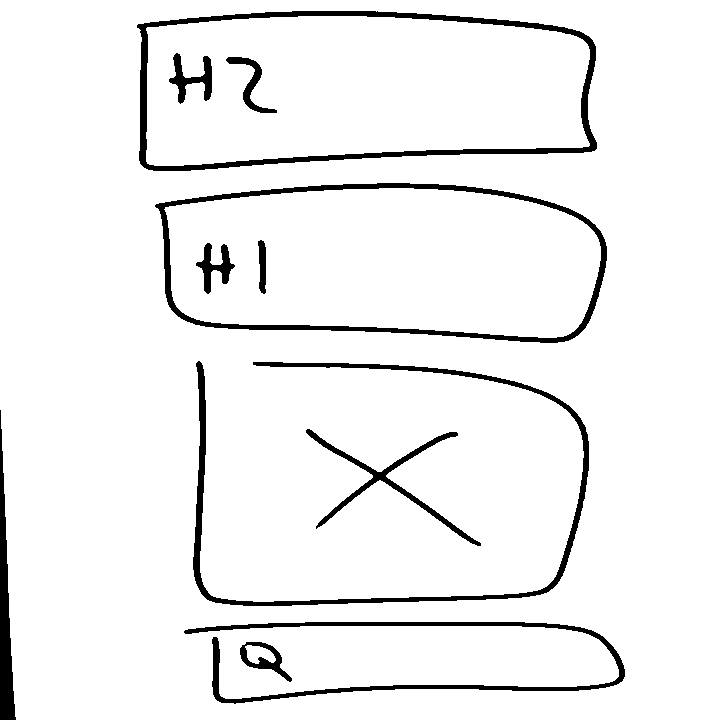heading1: (153, 181, 609, 348)
heading2: (134, 7, 603, 177)
picture: (187, 355, 591, 609)
search bar: (178, 617, 628, 707)
